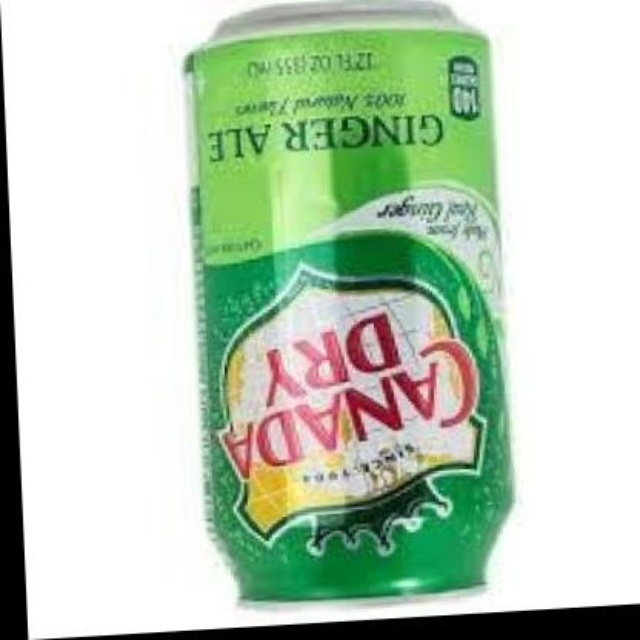trash: (186, 2, 511, 598)
